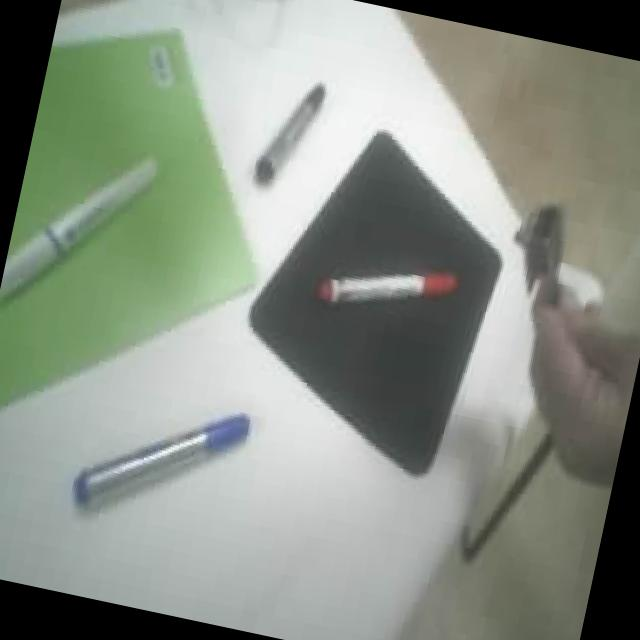board-marker: (72, 413, 249, 505), (254, 82, 324, 183)
